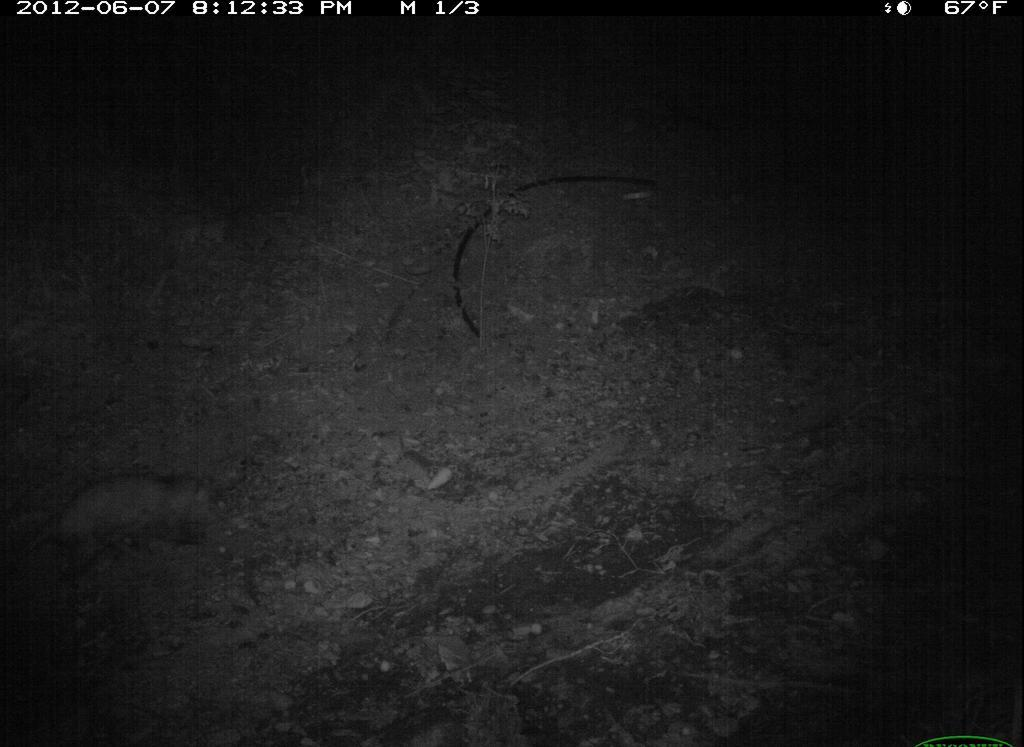opossum: (40, 466, 242, 582)
